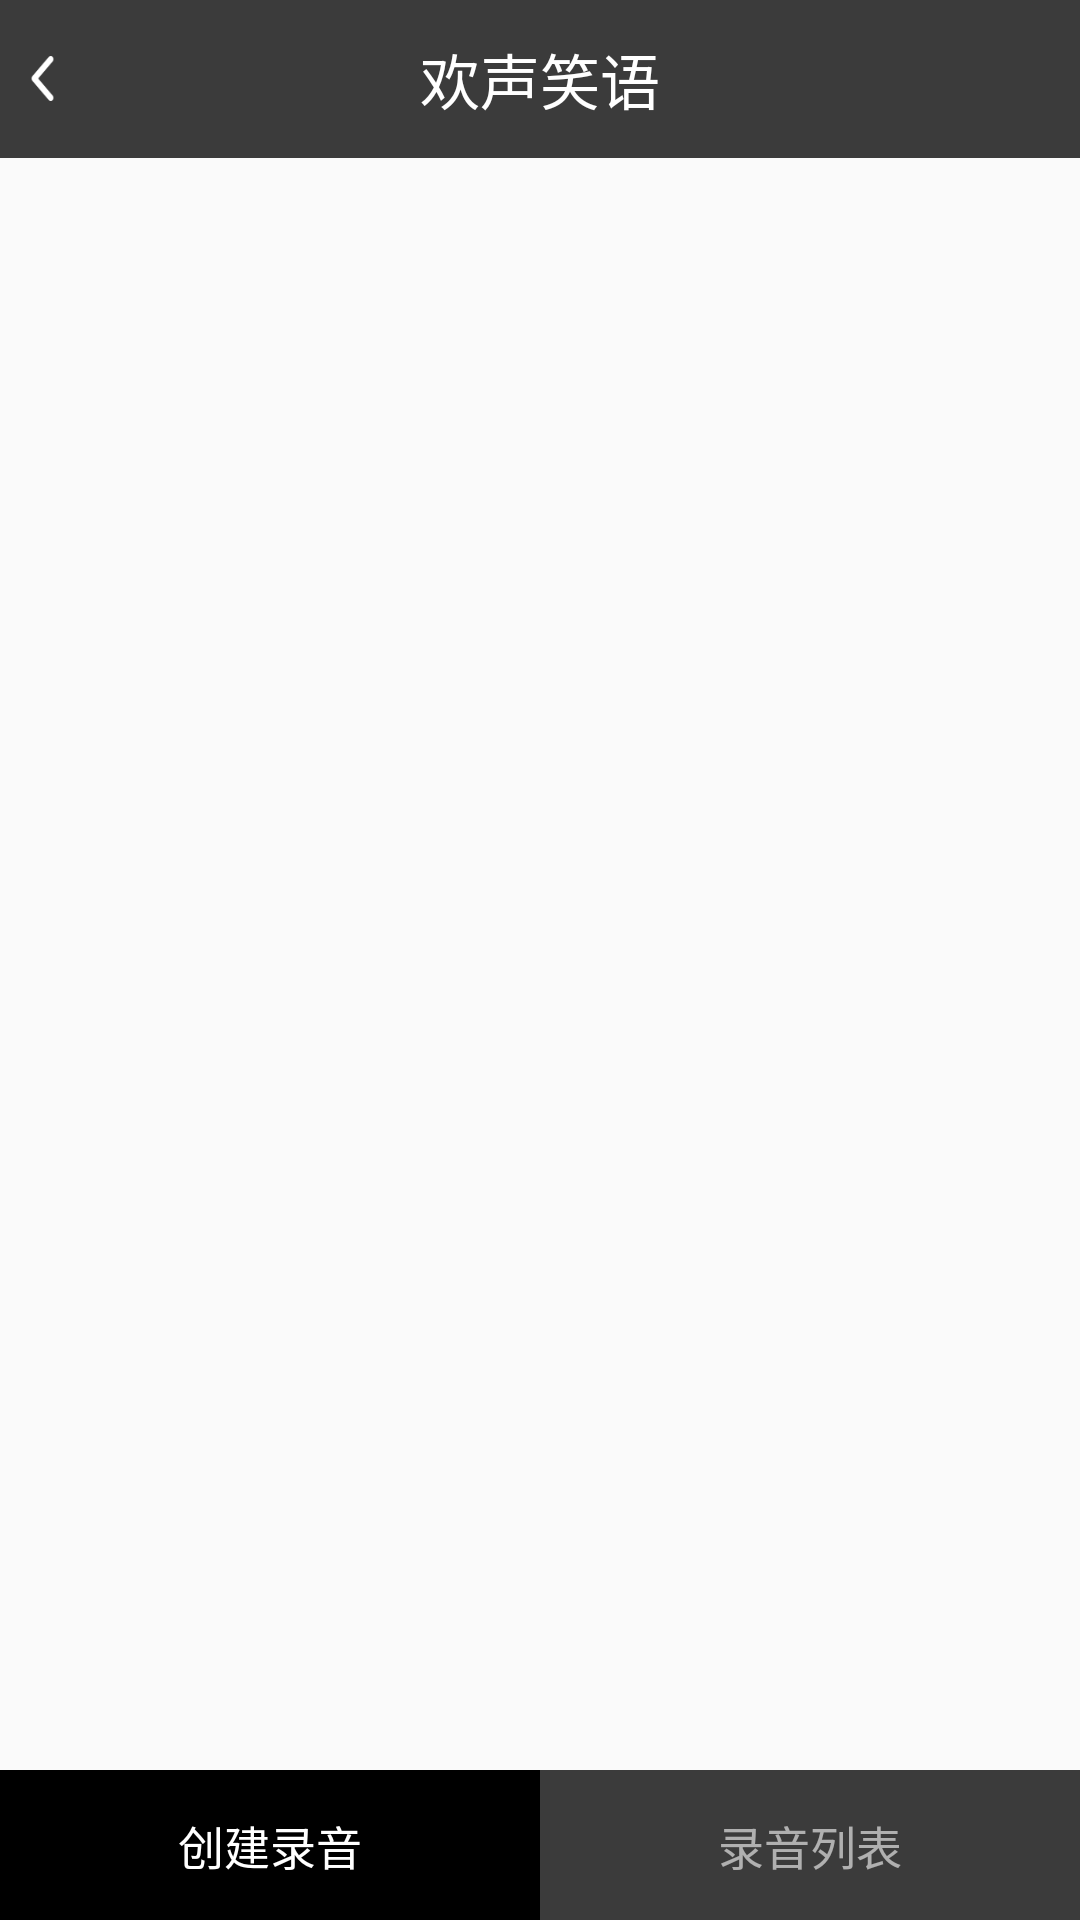

Icons on this 1080px×1920px Android screen, each with the point to tap as (x=x, y=y):
return iv: (x=42, y=78)
